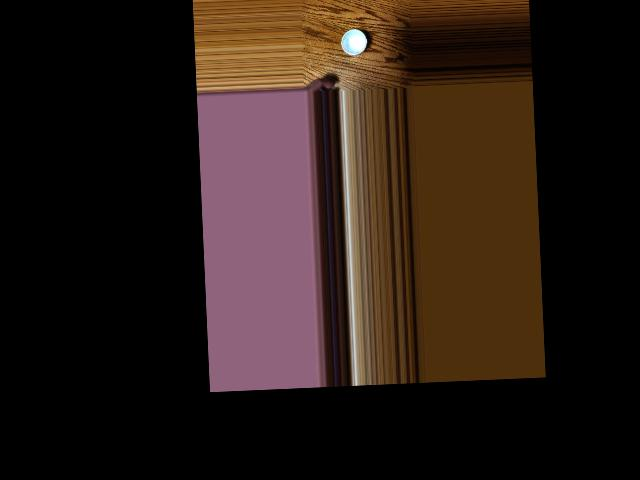cotage: (338, 28, 367, 58)
